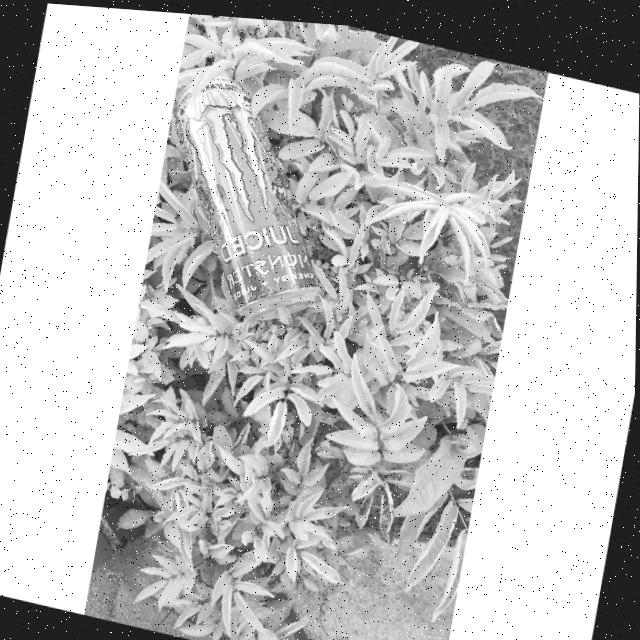Monster Aussie Lemonade: (142, 62, 352, 338)
